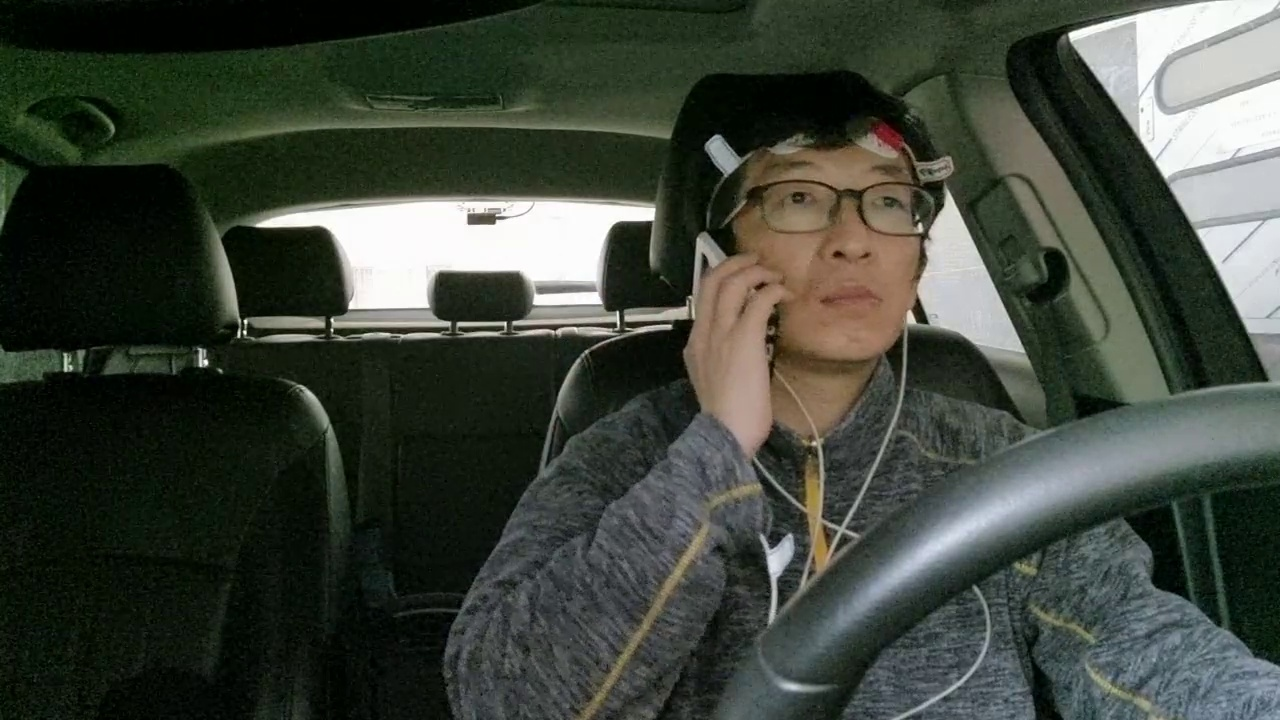phone: (639, 212, 823, 410)
